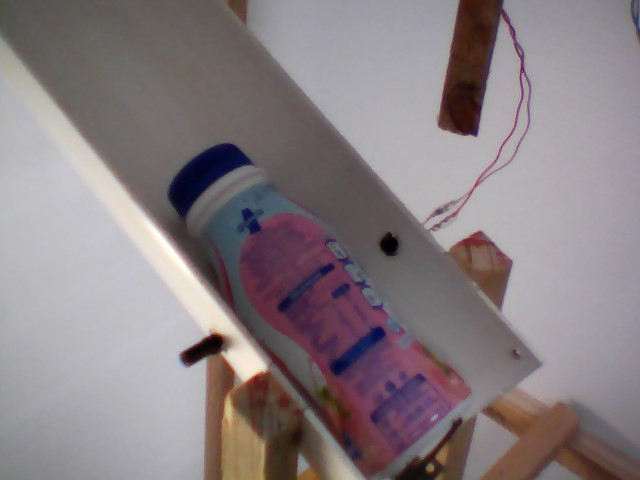plastico: (159, 140, 480, 480)
